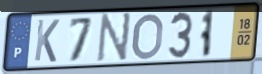1: (200, 7, 217, 60)
3: (166, 9, 195, 60)
7: (68, 16, 95, 64)
K: (33, 18, 62, 64)
N: (94, 11, 134, 64)
O: (130, 12, 165, 62)
